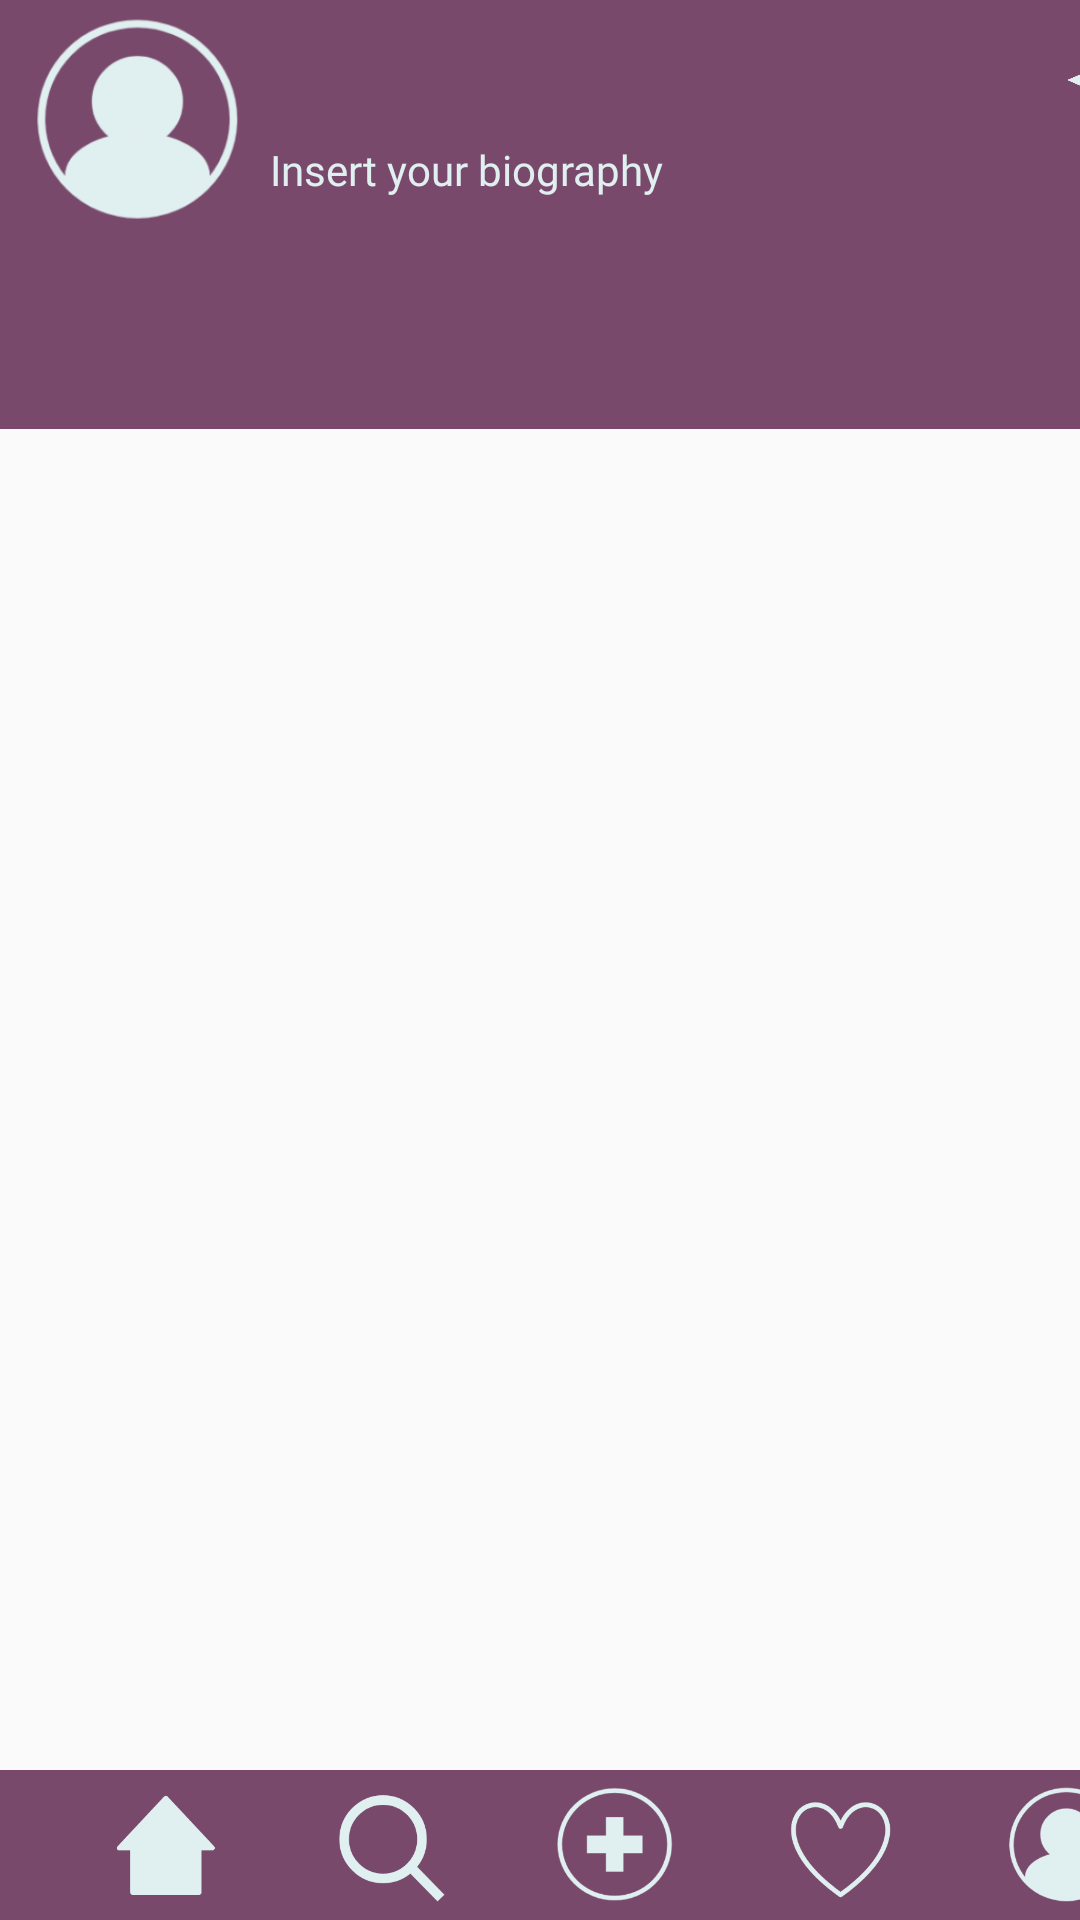

Where to tap for icons on this 1080px×1920px app screen, as (x,y):
add: (614,1844)
home: (166,1845)
search: (392,1848)
vote: (841,1850)
